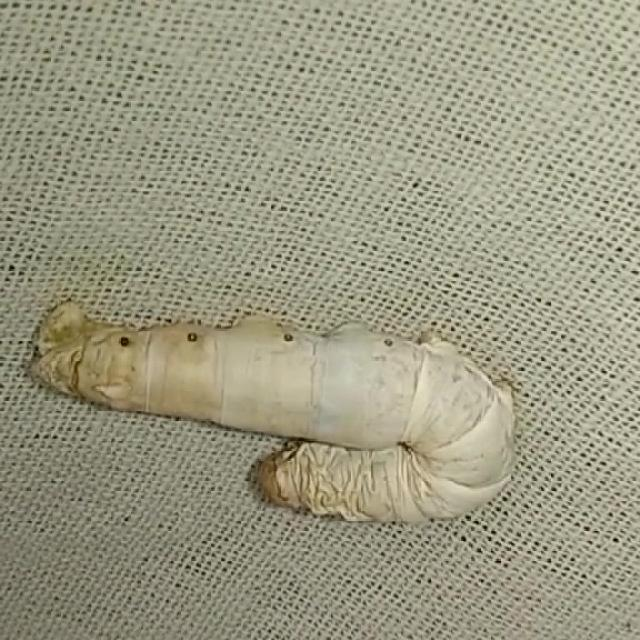Grasserie: (28, 262, 528, 534)
